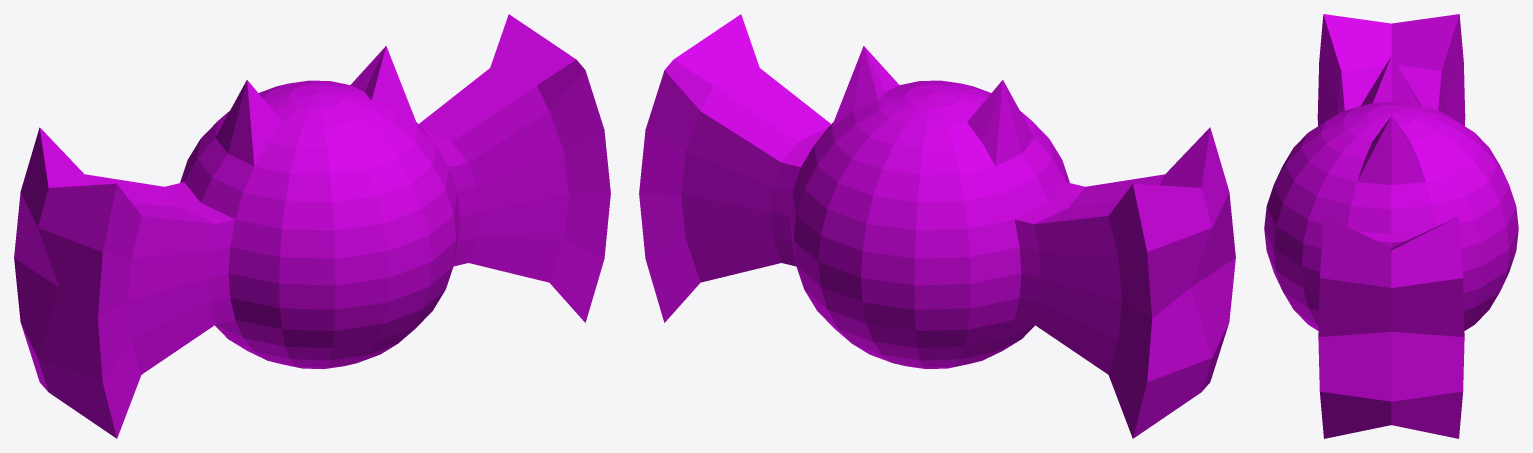
The model's file is enemy.fbx.
3 renders of one model, left to right at view 1: azimuth 30°, elevation 25°; view 2: azimuth 150°, elevation 25°; view 3: azimuth 270°, elevation 25°, orthographic. The views are drawn at different scales.
Parts seen in each view (by area): view 1: enemy:球; view 2: enemy:球; view 3: enemy:球.
Boxes of the visible parts, x1,y1,x2,y2 form: enemy:球: (14,14,610,438); enemy:球: (639,14,1235,438); enemy:球: (1264,14,1518,438).
Bounding box in the file's own units: 219 × 112 × 100.
